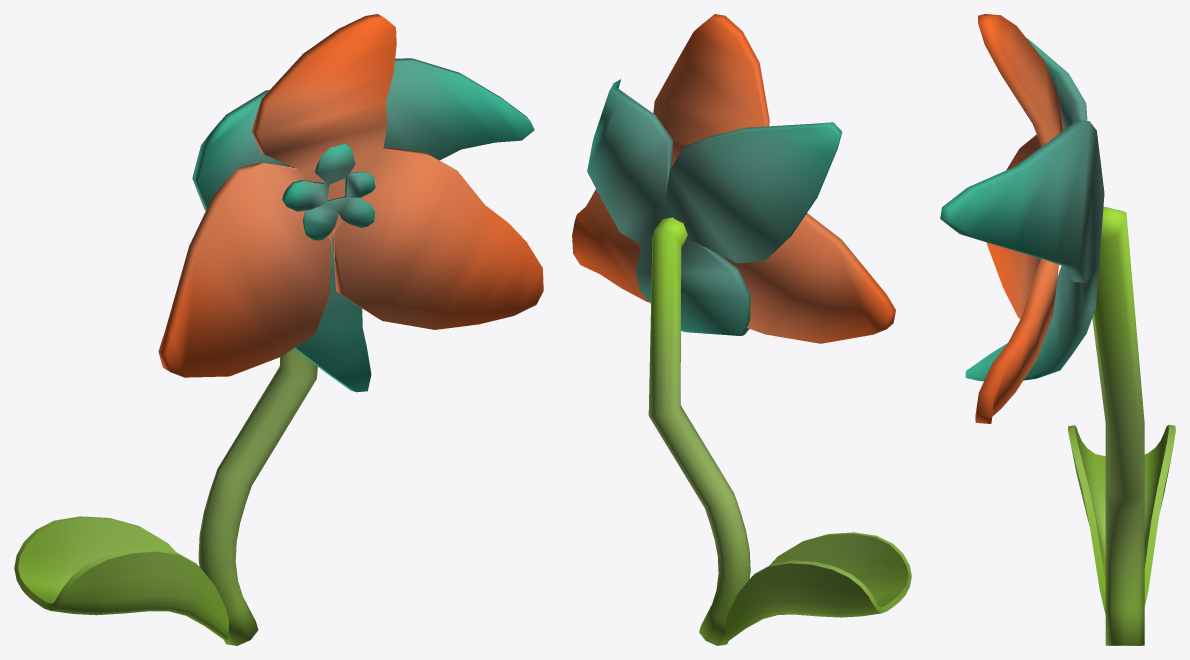
File: CourageModel_StageB.FBX
3 views of the same model, side by side, from view 1: azimuth 30°, elevation 25°; view 2: azimuth 150°, elevation 25°; view 3: azimuth 270°, elevation 25° (orthographic). The views are drawn at different scales.
Parts seen in each view (by area): view 1: Plant; view 2: Plant; view 3: Plant.
Part boxes in pixels (left/top/right/bottom): Plant: left=14, top=14, right=543, bottom=645; Plant: left=572, top=14, right=911, bottom=645; Plant: left=940, top=14, right=1175, bottom=645.
Size of the model in its own units: 29.32 by 42.29 by 13.55.
